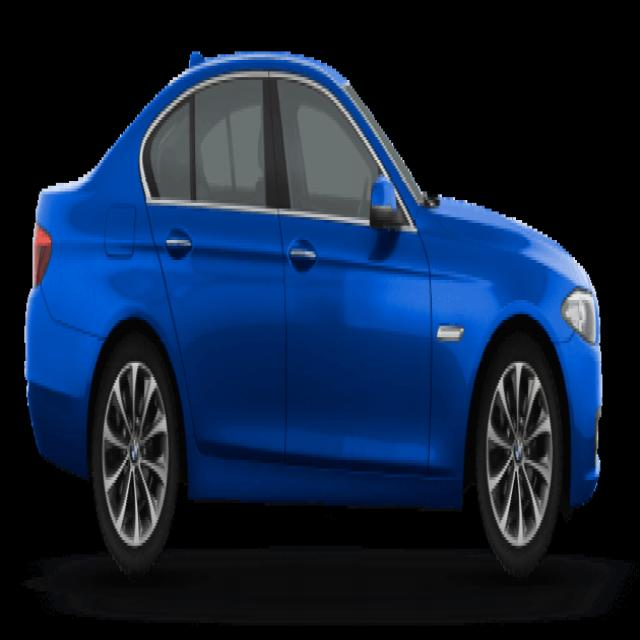yolov7-seg-car: (23, 50, 602, 585)
